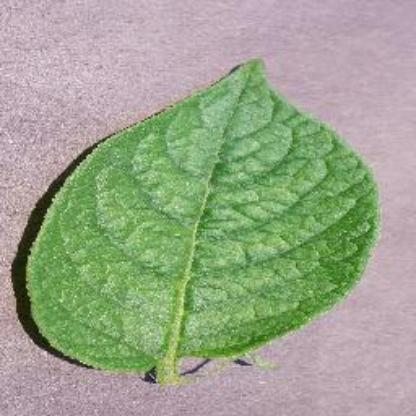Healthy-plant: (22, 56, 386, 386)
